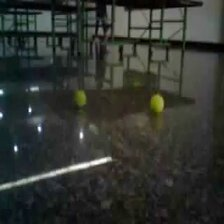tennis: (149, 94, 165, 114), (73, 89, 87, 108)
